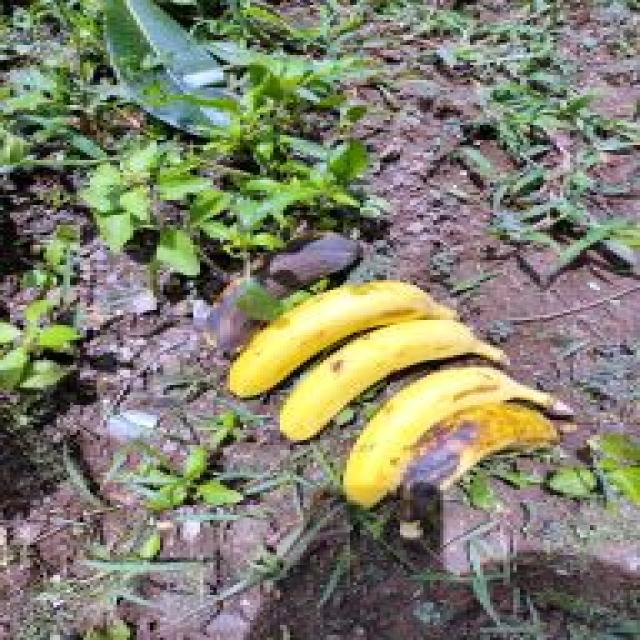Organik: (323, 355, 569, 487), (283, 316, 488, 447), (226, 286, 463, 387), (376, 405, 563, 532), (181, 233, 371, 350)
